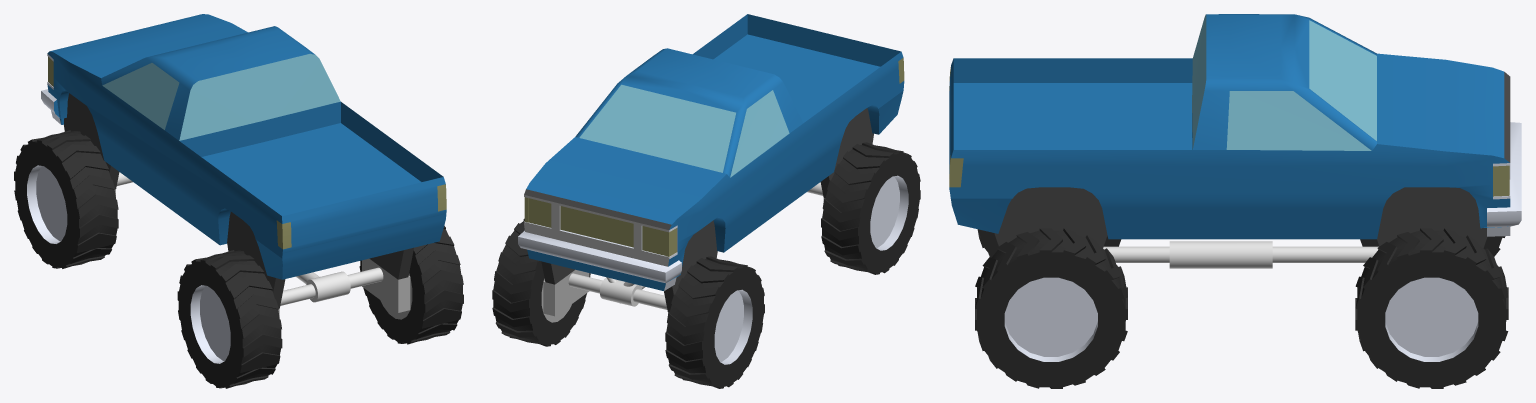
File: monster-truck.fbx
The picture shows the model from 3 angles, left to right: view 1: azimuth 30°, elevation 25°; view 2: azimuth 150°, elevation 25°; view 3: azimuth 270°, elevation 25°; orthographic projection. The views are drawn at different scales.
Parts seen in each view (by area): view 1: 1/2_001, 1/2_004, Tire_001, Tire_002, Tire_003, Group_004; view 2: 1/2_001, 1/2_004, Tire_002, Tire_001, Tire_004, Group_003; view 3: 1/2_004, 1/2_001, Tire_004, Tire_003, Group_006, Tire_001.
Boxes of the visible parts, x1,y1,x2,y2 form: 1/2_001: [41, 32, 364, 279]; 1/2_004: [127, 14, 446, 260]; Tire_001: [177, 212, 285, 388]; Tire_002: [14, 93, 119, 268]; Tire_003: [359, 226, 463, 344]; Group_004: [280, 267, 383, 305]; 1/2_001: [592, 33, 904, 290]; 1/2_004: [518, 14, 824, 274]; Tire_002: [664, 220, 764, 388]; Tire_001: [820, 108, 920, 274]; Tire_004: [492, 218, 590, 346]; Group_003: [568, 273, 667, 309]; 1/2_004: [949, 46, 1521, 239]; 1/2_001: [949, 14, 1521, 166]; Tire_004: [1355, 187, 1508, 388]; Tire_003: [975, 187, 1127, 388]; Group_006: [1103, 241, 1378, 268]; Tire_001: [977, 229, 1121, 257].
Size of the model in its own units: 108 by 113 by 209.
